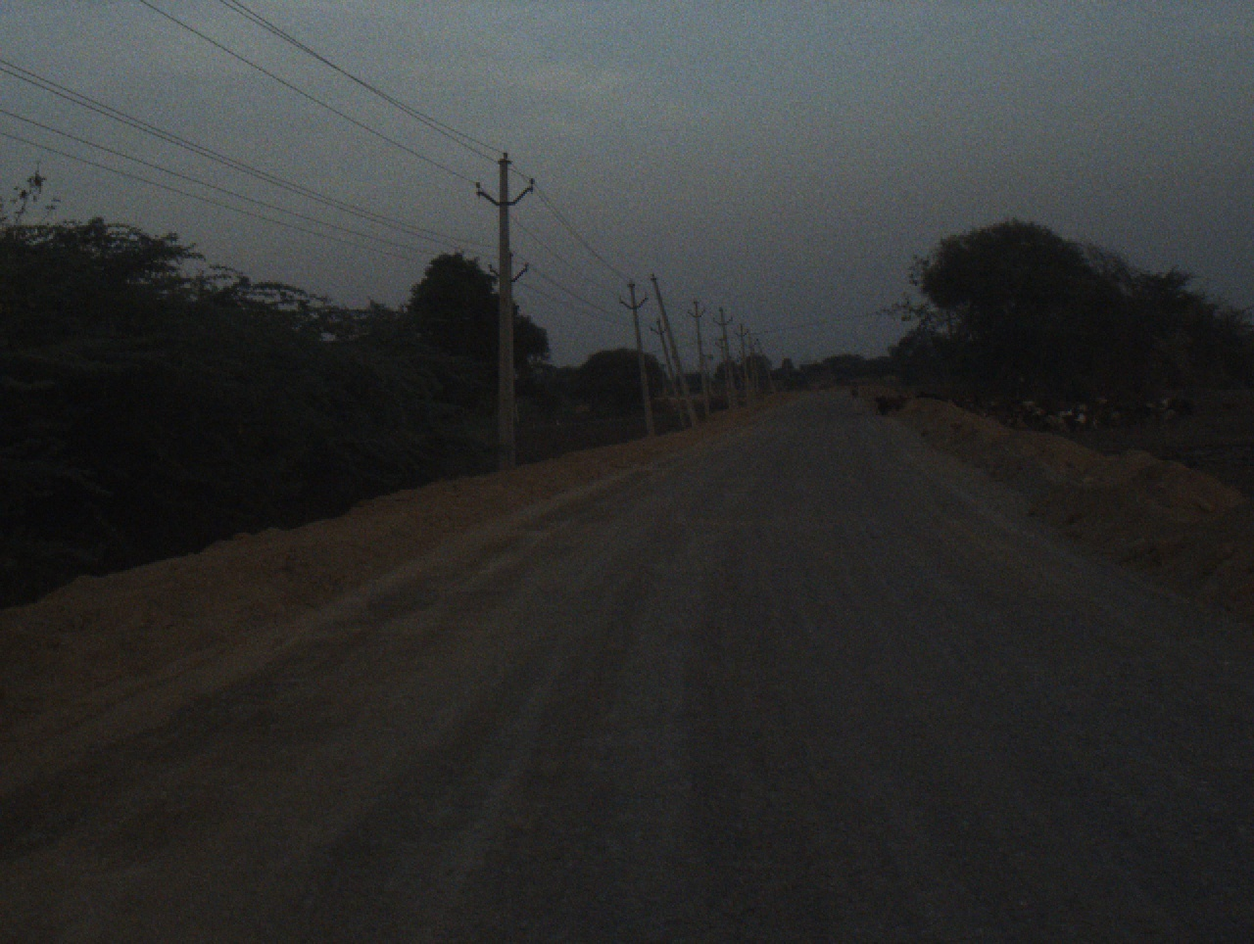animal: (1094, 394, 1154, 431), (1027, 392, 1081, 424), (966, 395, 1022, 418), (1161, 388, 1185, 427), (880, 388, 905, 409)
person: (849, 374, 864, 404)
